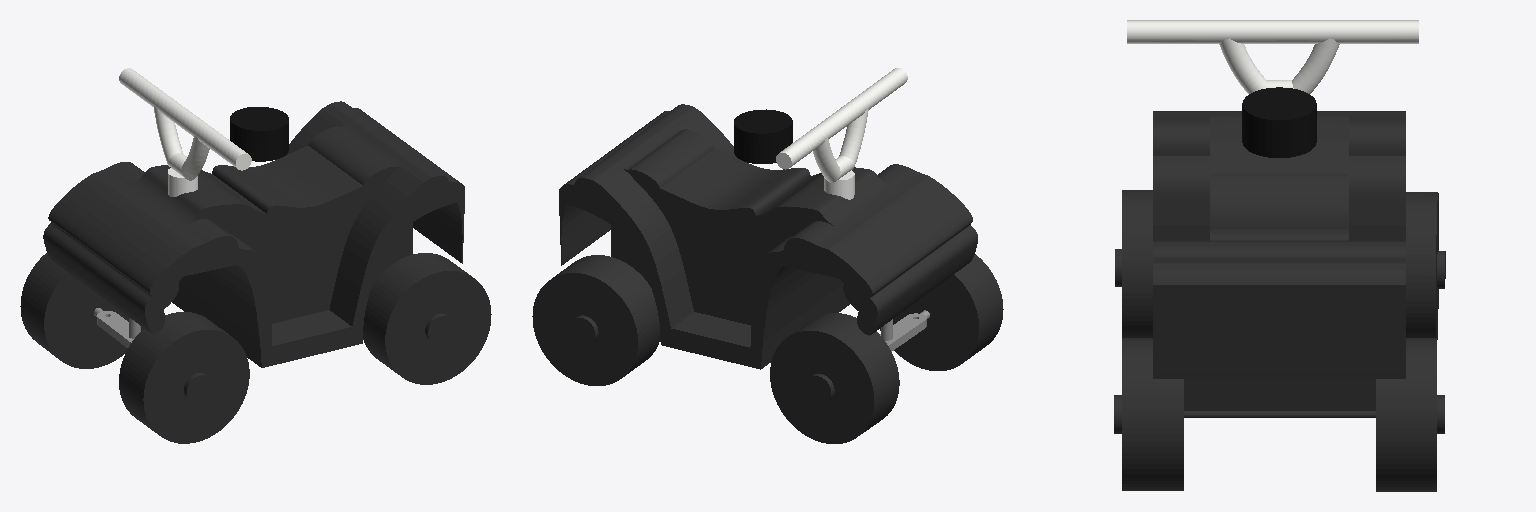
URDF robot description (buggy):
<?xml version='1.0' encoding='utf-8'?>
<robot name="buggy">
  <link name="manubrio__2">
    <inertial>
      <origin xyz="0 0 0" rpy="0 0 0" />
      <mass value="0.25" />
      <inertia ixx="0.001" ixy="0" ixz="0" iyy="0.001" iyz="0" izz="0.002" />
    </inertial>
    <visual>
      <origin xyz="-0.000660979 -0.0107905 0.00473322" rpy="-0 0 0" />
      <geometry>
        <mesh filename="package://buggy_description/meshes/manubrio__2.stl" />
      </geometry>
      <material name="manubrio__2_material">
        <color rgba="0.964706 0.964706 0.952941 1" />
      </material>
    </visual>
  </link>
  <link name="chasis__1">
    <inertial>
      <origin xyz="0 0 0" rpy="0 0 0" />
      <mass value="6.0" />
      <inertia ixx="0.17" ixy="0" ixz="0" iyy="0.36" iyz="0" izz="0.45" />
    </inertial>
    <visual>
      <origin xyz="0.138612 0.285 -0.102699" rpy="-0 -0.0260912 0" />
      <geometry>
        <mesh filename="package://buggy_description/meshes/chasis__1.stl" />
      </geometry>
      <material name="chasis__1_material">
        <color rgba="0.247059 0.247059 0.247059 1" />
      </material>
    </visual>
    <collision name="colision_chasis">
      <origin xyz="0.13 0 -0.09" rpy="0 0 0" />
      <geometry>
        <box size="0.27 0.13 0.12" />
      </geometry>
    </collision>
  </link>
  <link name="lb">
    <inertial>
      <origin xyz="0 0 0" rpy="0 0 0" />
      <mass value="0.45" />
      <inertia ixx="0.0012" ixy="0" ixz="0" iyy="0.0012" iyz="0" izz="0.002" />
    </inertial>
    <visual>
      <origin xyz="-0.224 -0.074 0.41" rpy="1.5708 -0 0" />
      <geometry>
        <mesh filename="package://buggy_description/meshes/lb.stl" />
      </geometry>
      <material name="lb_material">
        <color rgba="0.247059 0.247059 0.247059 1" />
      </material>
    </visual>
    <collision>
      <origin xyz="0 0 -0.045" rpy="0 0 0" />
      <geometry>
        <cylinder radius="0.1" length="0.09">
          </cylinder>
      </geometry>
    </collision>
  </link>
  <joint name="LB" type="continuous">
    <origin xyz="0.366825 -0.124785 -0.170769" rpy="-1.57079 -0.0260912 -0.000203095" />
    <parent link="chasis__1" />
    <child link="lb" />
    <axis xyz="0 0 1" />
    <limit effort="10" velocity="10" />
  </joint>
  <link name="cuerpo1">
    <inertial>
      <origin xyz="0 0 0" rpy="0 0 0" />
      <mass value="0.45" />
      <inertia ixx="0.0012" ixy="0" ixz="0" iyy="0.0012" iyz="0" izz="0.002" />
    </inertial>
    <visual>
      <origin xyz="-0.224 0.074 -0.16" rpy="-1.5708 0 0" />
      <geometry>
        <mesh filename="package://buggy_description/meshes/cuerpo1.stl" />
      </geometry>
      <material name="cuerpo1_material">
        <color rgba="0.247059 0.247059 0.247059 1" />
      </material>
    </visual>
    <collision>
      <origin xyz="0 0 -0.045" rpy="0 0 0" />
      <geometry>
        <cylinder radius="0.1" length="0.09">
          </cylinder>
      </geometry>
    </collision>
  </link>
  <joint name="RB" type="continuous">
    <origin xyz="0.366876 0.125215 -0.170767" rpy="1.5708 -0.0260912 -0.000203095" />
    <parent link="chasis__1" />
    <child link="cuerpo1" />
    <axis xyz="0 0 1" />
    <limit effort="10" velocity="10" />
  </joint>
  <link name="direccion_ruedas__2___1">
    <inertial>
      <origin xyz="0 0 0" rpy="0 0 0" />
      <mass value="0.6" />
      <inertia ixx="0.006" ixy="0" ixz="0" iyy="0.006" iyz="0" izz="0.008" />
    </inertial>
    <visual>
      <origin xyz="0.306906 0.279775 -0.215" rpy="-0 -0 -0" />
      <geometry>
        <mesh filename="package://buggy_description/meshes/direccion_ruedas__2___1.stl" />
      </geometry>
      <material name="dirección_ruedas__2___1_material">
        <color rgba="0.627451 0.627451 0.627451 1" />
      </material>
    </visual>
  </link>
  <link name="direccion_ruedas__2">
    <inertial>
      <origin xyz="0 0 0" rpy="0 0 0" />
      <mass value="0.5" />
      <inertia ixx="0.004" ixy="0" ixz="0" iyy="0.004" iyz="0" izz="0.006" />
    </inertial>
    <visual>
      <origin xyz="0.307279 0.279163 -0.022623" rpy="0 -0 0" />
      <geometry>
        <mesh filename="package://buggy_description/meshes/direccion_ruedas__2.stl" />
      </geometry>
      <material name="dirección_ruedas__2_material">
        <color rgba="0.627451 0.627451 0.627451 1" />
      </material>
    </visual>
  </link>
  <link name="lf">
    <inertial>
      <origin xyz="0 0 0" rpy="0 0 0" />
      <mass value="0.35" />
      <inertia ixx="0.0009" ixy="0" ixz="0" iyy="0.0009" iyz="0" izz="0.0015" />
    </inertial>
    <visual>
      <origin xyz="0.226 -0.074 0.41" rpy="1.5708 0 0" />
      <geometry>
        <mesh filename="package://buggy_description/meshes/lf.stl" />
      </geometry>
      <material name="lf_material">
        <color rgba="0.247059 0.247059 0.247059 1" />
      </material>
    </visual>
    <collision>
      <origin xyz="0 0 -0.045" rpy="0 0 0" />
      <geometry>
        <cylinder radius="0.1" length="0.09">
          </cylinder>
      </geometry>
    </collision>
  </link>
  <joint name="LF" type="continuous">
    <origin xyz="-0.00202358 -0.125007 -0.007623" rpy="-1.5708 -0 0" />
    <parent link="direccion_ruedas__2" />
    <child link="lf" />
    <axis xyz="0 0 1" />
    <limit effort="10" velocity="10" />
  </joint>
  <link name="cuerpo1_2">
    <inertial>
      <origin xyz="0 0 0" rpy="0 0 0" />
      <mass value="0.35" />
      <inertia ixx="0.0009" ixy="0" ixz="0" iyy="0.0009" iyz="0" izz="0.0015" />
    </inertial>
    <visual>
      <origin xyz="0.226 0.074 -0.16" rpy="-1.5708 -0 -0" />
      <geometry>
        <mesh filename="package://buggy_description/meshes/cuerpo1__2.stl" />
      </geometry>
      <material name="cuerpo1_2_material">
        <color rgba="0.247059 0.247059 0.247059 1" />
      </material>
    </visual>
    <collision>
      <origin xyz="0 0 -0.045" rpy="0 0 0" />
      <geometry>
        <cylinder radius="0.1" length="0.09">
          </cylinder>
      </geometry>
    </collision>
  </link>
  <joint name="RF" type="continuous">
    <origin xyz="0.00276663 0.12494 -0.007623" rpy="1.5708 -0 -0.02214" />
    <parent link="direccion_ruedas__2" />
    <child link="cuerpo1_2" />
    <axis xyz="0 0 1" />
    <limit effort="10" velocity="10" />
  </joint>
  <joint name="tuboeje" type="fixed">
    <origin xyz="-0 -0 -0.192377" rpy="-0 -0 -0" />
    <parent link="direccion_ruedas__2___1" />
    <child link="direccion_ruedas__2" />
    <axis xyz="0 0 1" />
    <limit effort="10" velocity="10" />
  </joint>
  <joint name="tubochasis" type="revolute">
    <origin xyz="-0.0909854 0.00057461 0.0173518" rpy="-0 -0.0260912 0" />
    <parent link="chasis__1" />
    <child link="direccion_ruedas__2___1" />
    <axis xyz="0 0 1" />
    <limit effort="10" velocity="10" lower="-0.223402" upper="0.223402" />
  </joint>
  <joint name="manubriochasis" type="fixed">
    <origin xyz="-0.136528 -0.29579 0.110951" rpy="0 0.0260912 0" />
    <parent link="manubrio__2" />
    <child link="chasis__1" />
  </joint>
  <link name="lidar_link">
    <inertial>
      <origin xyz="0 0 0" rpy="0 0 0" />
      <mass value="0.17" />
      <inertia ixx="0.000142413" ixy="0" ixz="0" iyy="0.000142413" iyz="0" izz="0.000199118" />
    </inertial>
    <visual>
      <geometry>
        <cylinder radius="0.0484" length="0.055" />
      </geometry>
      <material name="rplidar_a1_black">
        <color rgba="0.12 0.12 0.12 1" />
      </material>
    </visual>
  </link>
  <joint name="lidar_joint" type="fixed">
    <parent link="chasis__1" />
    <child link="lidar_link" />
    <origin xyz="0.14 0 0.14" rpy="0 0 0" />
  </joint>
  <gazebo reference="lidar_link">
    <sensor name="rplidar_a1" type="gpu_lidar">
      <always_on>true</always_on>
      <visualize>true</visualize>
      <update_rate>5.5</update_rate>
      <topic>/scan</topic>
      <gz_frame_id>lidar_link</gz_frame_id>
      <lidar>
        <scan>
          <horizontal>
            <samples>360</samples>
            <resolution>1</resolution>
            <min_angle>-3.14159265359</min_angle>
            <max_angle>3.14159265359</max_angle>
          </horizontal>
        </scan>
        <range>
          <min>0.15</min>
          <max>6.0</max>
          <resolution>0.01</resolution>
        </range>
      </lidar>
    </sensor>
  </gazebo>
  <gazebo>
    <plugin filename="gz-sim-joint-controller-system" name="gz::sim::systems::JointController">
      <joint_name>LB</joint_name>
      <topic>/model/buggy/joint/LB/cmd_vel</topic>
    </plugin>
    <plugin filename="gz-sim-joint-controller-system" name="gz::sim::systems::JointController">
      <joint_name>RB</joint_name>
      <topic>/model/buggy/joint/RB/cmd_vel</topic>
    </plugin>
    <plugin filename="gz-sim-joint-position-controller-system" name="gz::sim::systems::JointPositionController">
      <joint_name>tubochasis</joint_name>
      <topic>/model/buggy/joint/tubochasis/0/cmd_pos</topic>
      <p_gain>5</p_gain>
      <i_gain>0</i_gain>
      <d_gain>0.1</d_gain>
      <i_max>0</i_max>
      <i_min>0</i_min>
      <cmd_max>10</cmd_max>
      <cmd_min>-10</cmd_min>
    </plugin>
    <plugin filename="gz-sim-odometry-publisher-system" name="gz::sim::systems::OdometryPublisher">
      <odom_topic>/model/buggy/odometry</odom_topic>
      <odom_frame>odom</odom_frame>
      <robot_base_frame>buggy/chasis__1</robot_base_frame>
      <odom_publish_frequency>20</odom_publish_frequency>
      <dimensions>2</dimensions>
    </plugin>
  </gazebo>
</robot>

--- What the picture shows (computed from the rendered views, not written in the file) ---
Views: 3 orthographic renders of the robot side by side, from view 1: azimuth 30°, elevation 25°; view 2: azimuth 150°, elevation 25°; view 3: azimuth 270°, elevation 25°.
Robot: buggy — 9 links, 8 joints (1 revolute, 4 continuous, 3 fixed); root link manubrio__2; default pose: all joints at 0.
Visible links, largest first — view 1: chasis__1, lb, lf, cuerpo1_2, manubrio__2, lidar_link, direccion_ruedas__2; view 2: chasis__1, cuerpo1, cuerpo1_2, lf, manubrio__2, lidar_link, direccion_ruedas__2; view 3: chasis__1, manubrio__2, lb, cuerpo1, cuerpo1_2, lf, lidar_link.
Boxes of the visible links, x1,y1,x2,y2 form: chasis__1: (43,101,464,367); lb: (363,253,491,384); lf: (119,312,249,443); cuerpo1_2: (20,253,143,368); manubrio__2: (119,68,251,196); lidar_link: (230,107,288,161); direccion_ruedas__2: (94,308,133,347); chasis__1: (559,104,977,369); cuerpo1: (532,255,659,385); cuerpo1_2: (770,313,899,443); lf: (880,254,1003,370); manubrio__2: (776,68,907,199); lidar_link: (734,109,792,163); direccion_ruedas__2: (880,310,929,351); chasis__1: (1153,111,1405,417); manubrio__2: (1127,20,1418,93); lb: (1114,338,1183,490); cuerpo1: (1376,338,1444,491); cuerpo1_2: (1406,192,1445,339); lf: (1115,190,1152,337); lidar_link: (1242,87,1316,157).
Bounding box of the posed robot: 0.6548 × 0.4308 × 0.495 m (x, y, z).
Meshes: 8 distinct files referenced, 8 mesh visuals loaded (8 binary STL).
